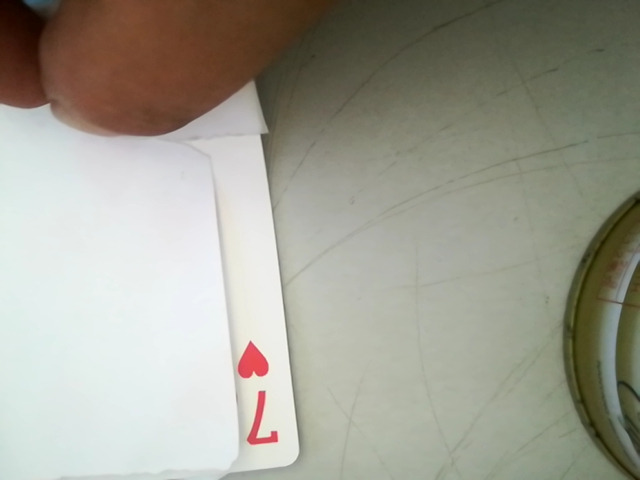hx 7: (216, 326, 284, 462)
